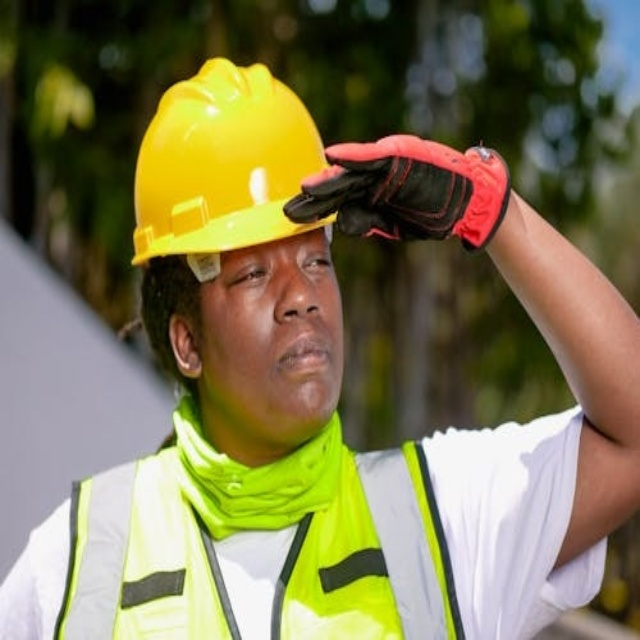Guantes: (284, 135, 507, 252)
Sin_gafas: (223, 244, 335, 300)
Sin_mascara: (266, 329, 340, 415)
